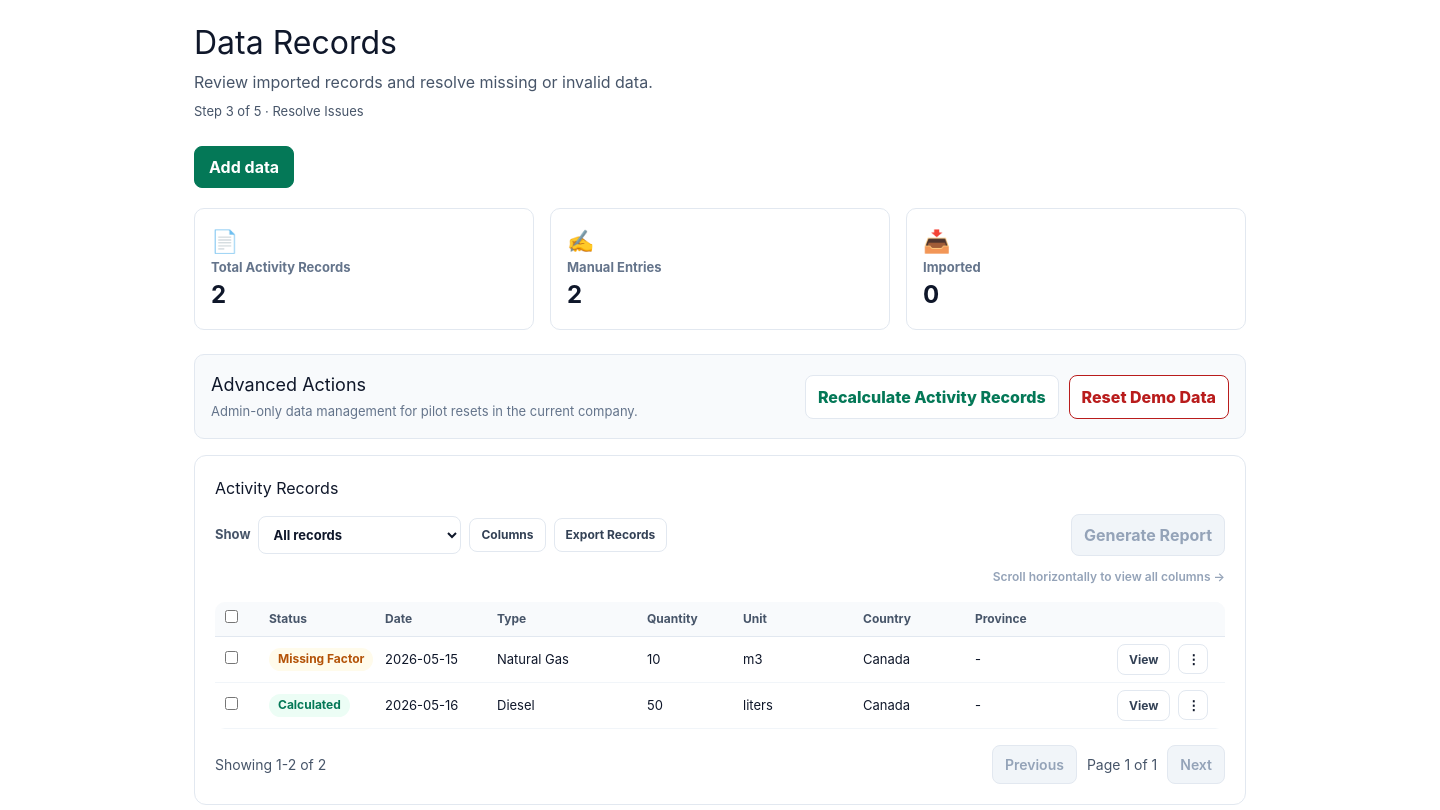
Scenario: ActivityDataPage delete flows › keeps Set Province disabled when selected rows contain no electricity records
Click the checkbox named "Select activity record Natural Gas 2026-05-15". click: (232, 658)
box: [225,651,238,664]
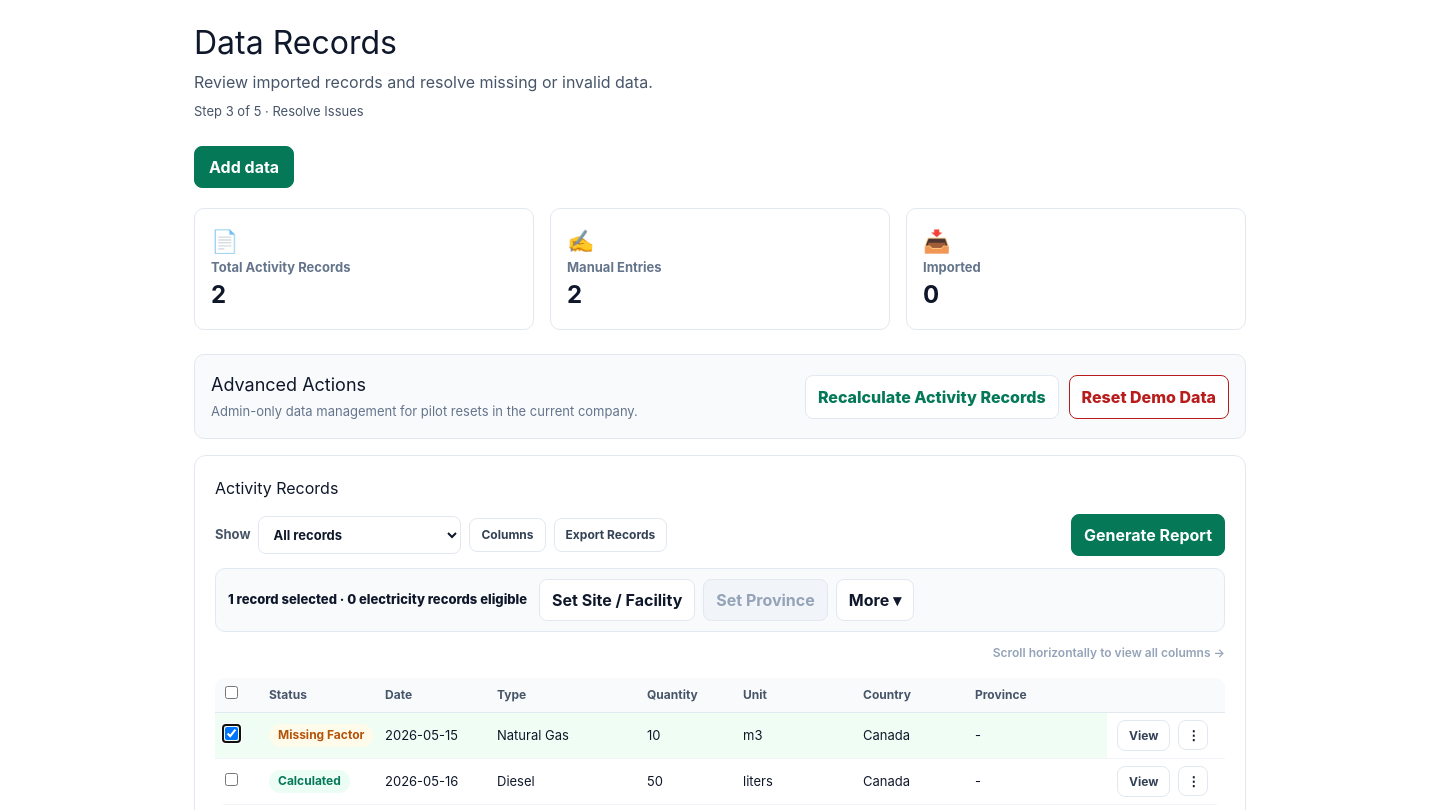
Click the checkbox named "Select activity record Diesel 2026-05-16". click: (232, 780)
box: [225,773,238,786]
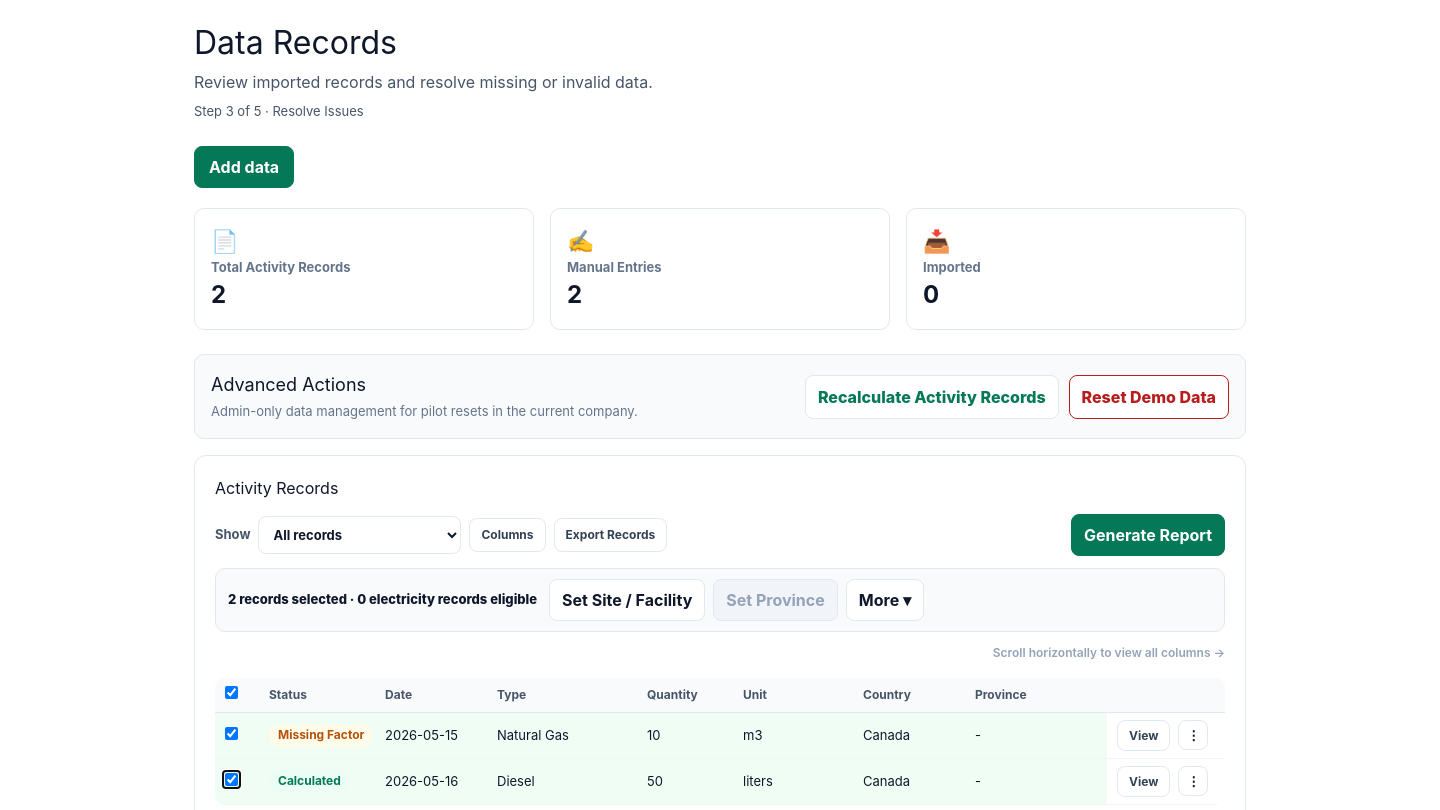
Expected: the button "Set Province" is disabled, [713,579,838,621]
Expected: the text "2 records selected · 0 electricity records eligible" is shown, [228,590,537,610]
